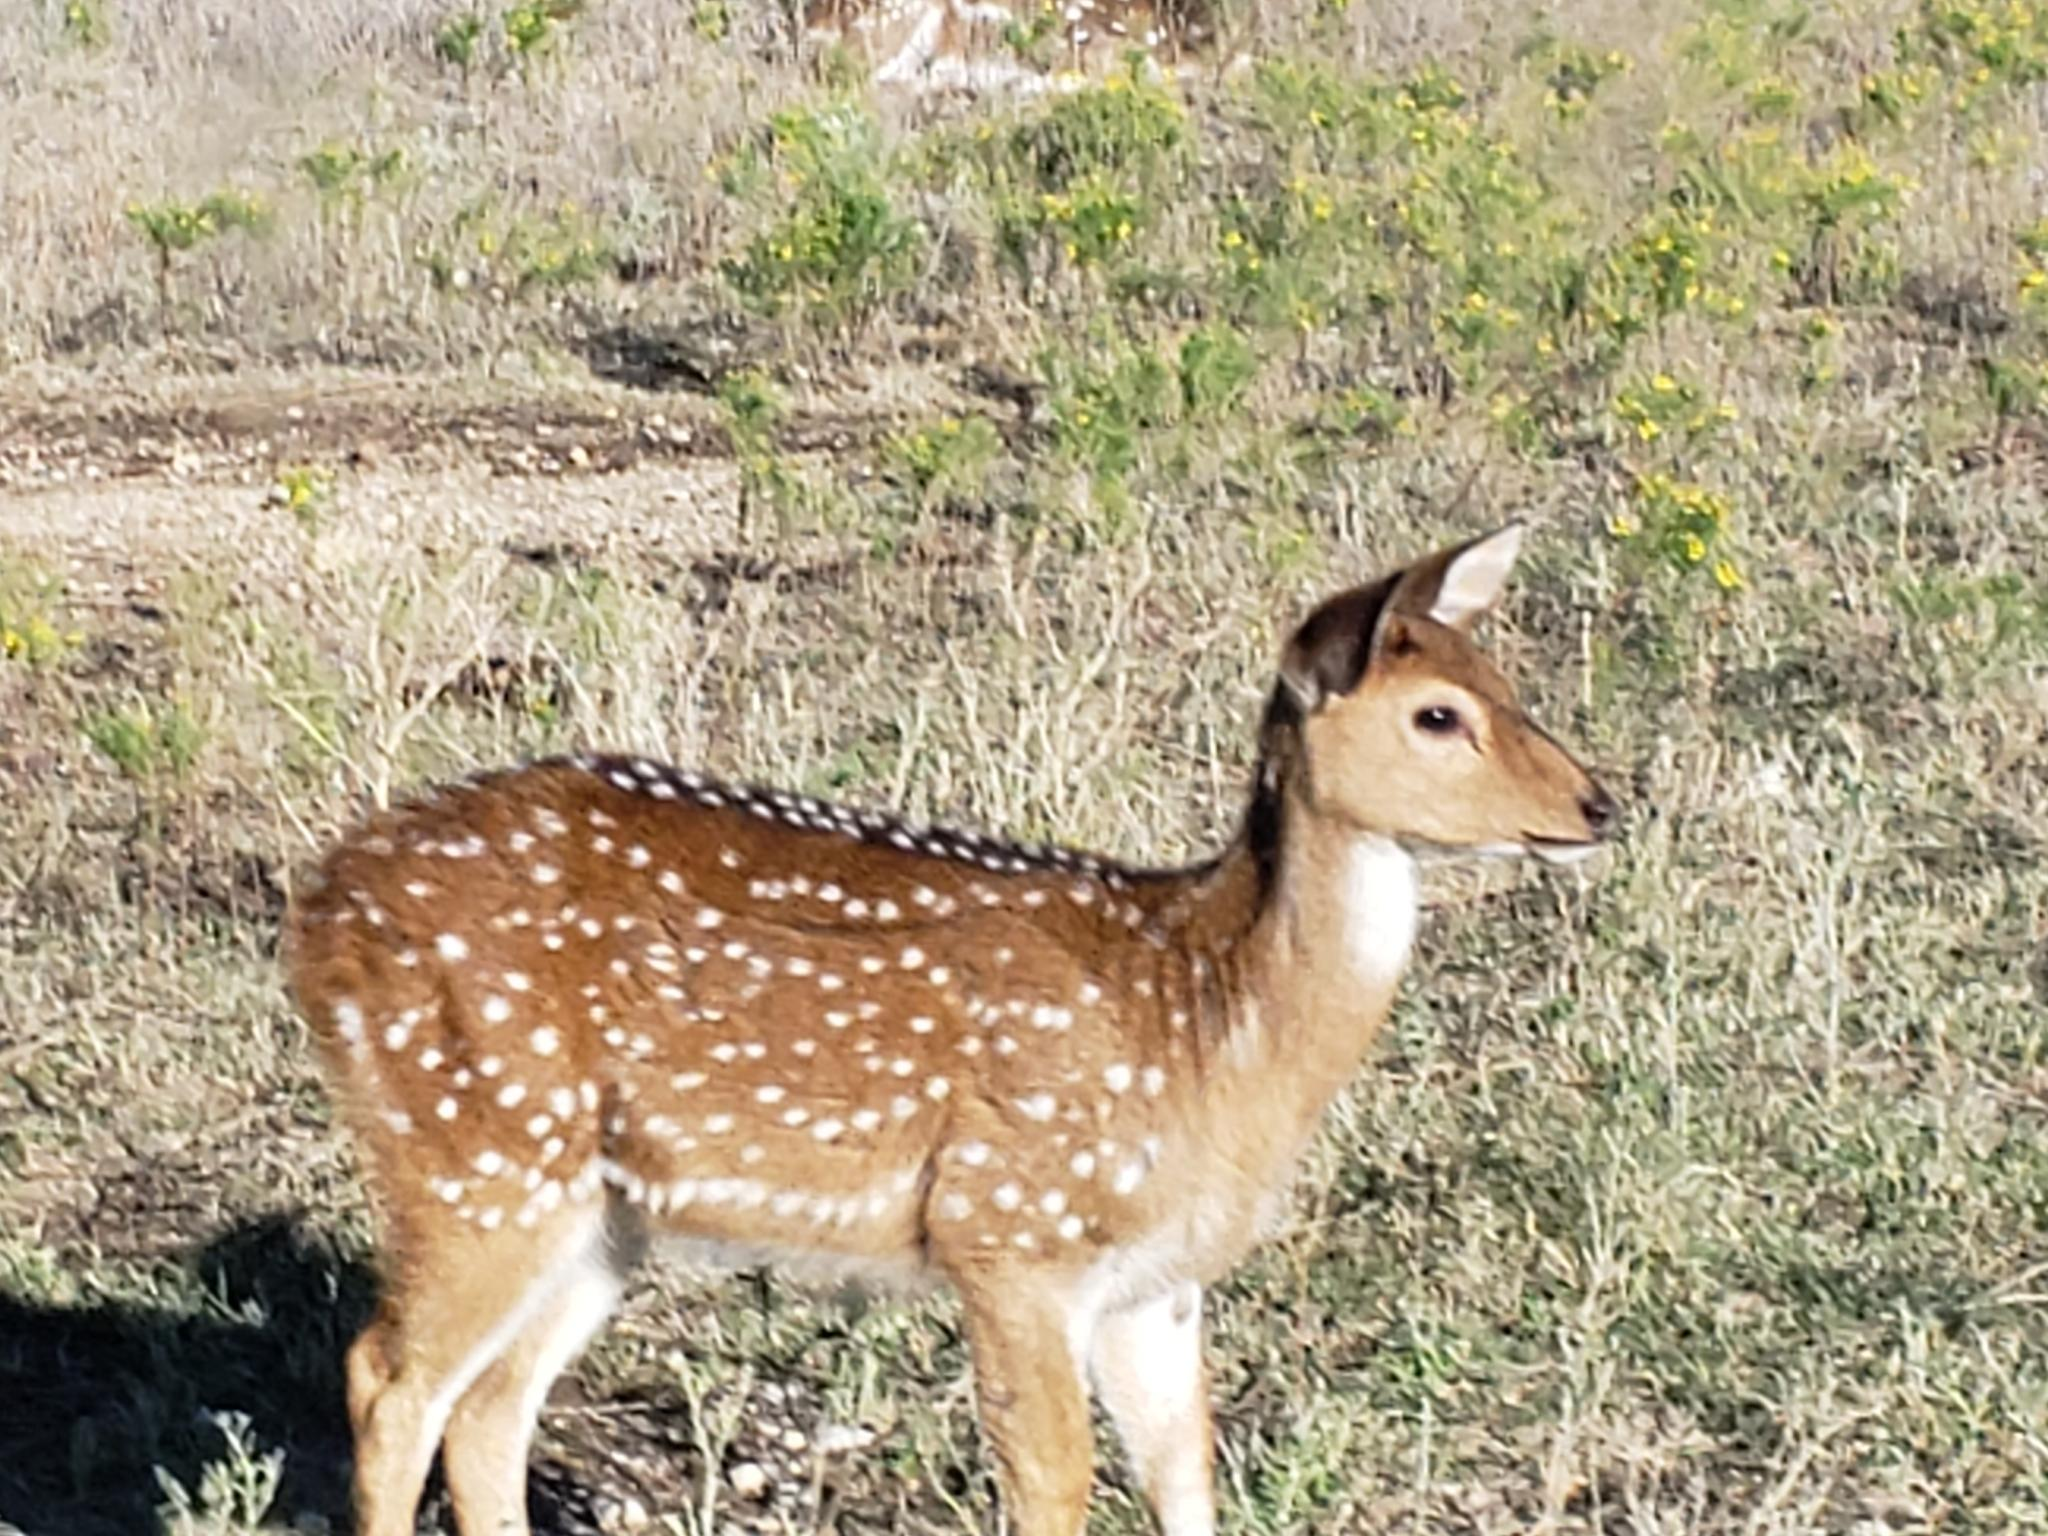Deer: (284, 526, 1614, 1534)
